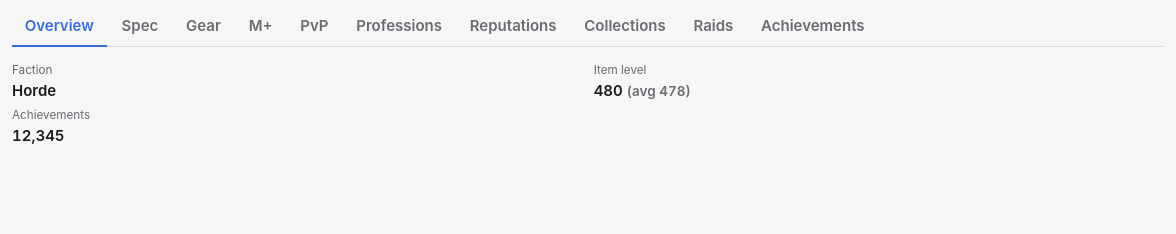
Test: CharacterDetail › lazily fetches specializations only when the Spec tab is selected, rendering the active build
Click the tab "Spec". click: coordinates (140, 27)
box: [109,8,171,47]
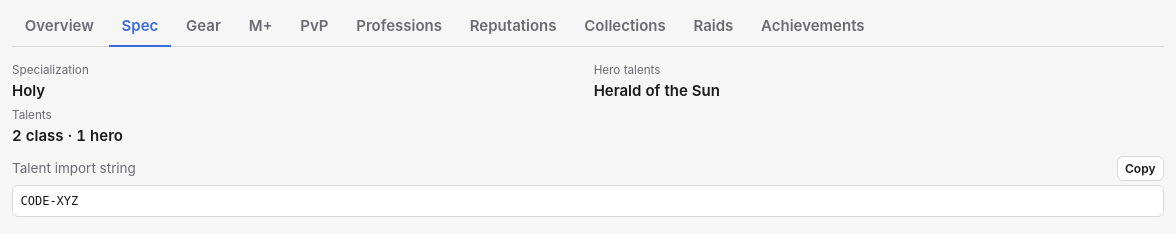
Expected: the text "Holy" is shown, [12,80,45,100]
Expected: the text "Herald of the Sun" is shown, [594,80,720,100]
Expected: the text "2 class · 1 hero" is shown, [12,126,123,145]
